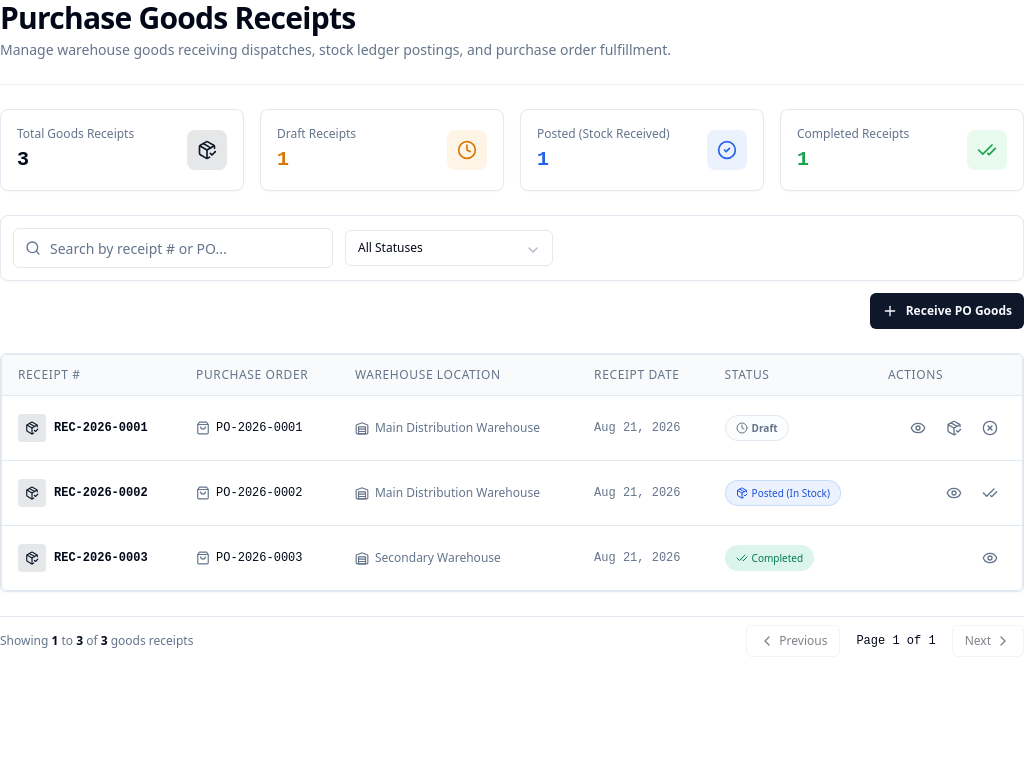
it: Purchase Receipts Management Suite › opens Purchase Receipt Detail modal when view inspector action is clicked
The width and height of the screenshot is (1024, 768).
Click the button titled "View Receipt Inspector" in the row of "REC-2026-0001": (918, 428) [902,412,934,444]
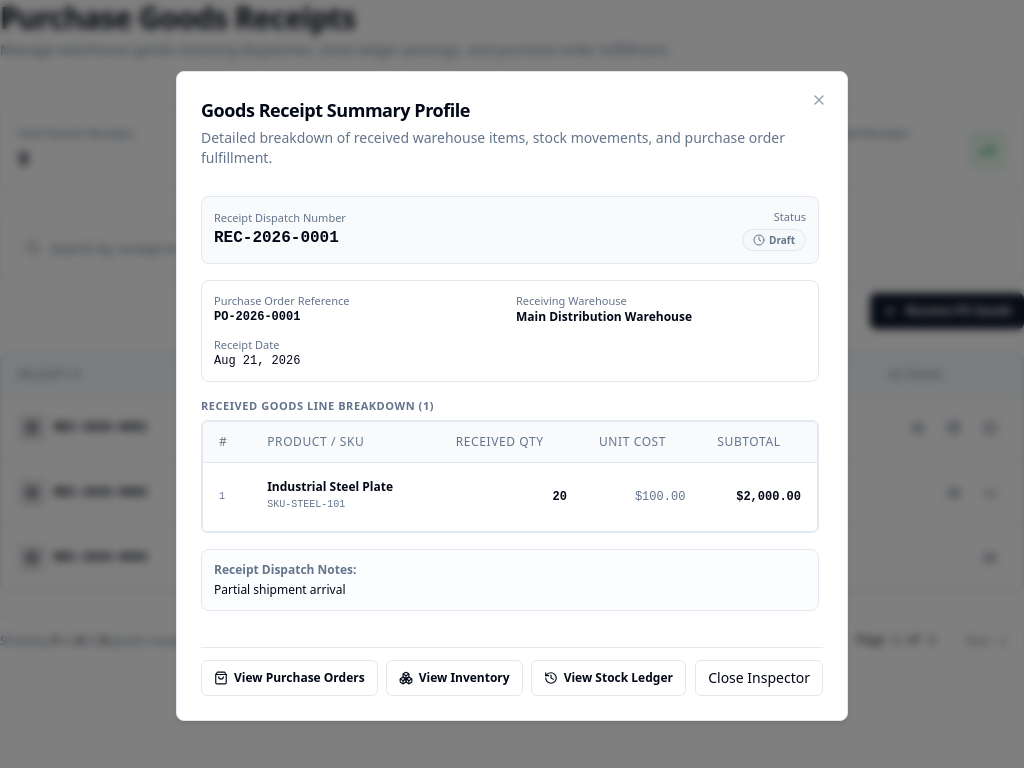
Result: the heading "Goods Receipt Summary Profile" is shown at [201,98,470,122]
Result: the button "View Purchase Orders" is shown at [201,660,378,696]
Result: the button "View Inventory" is shown at [386,660,523,696]
